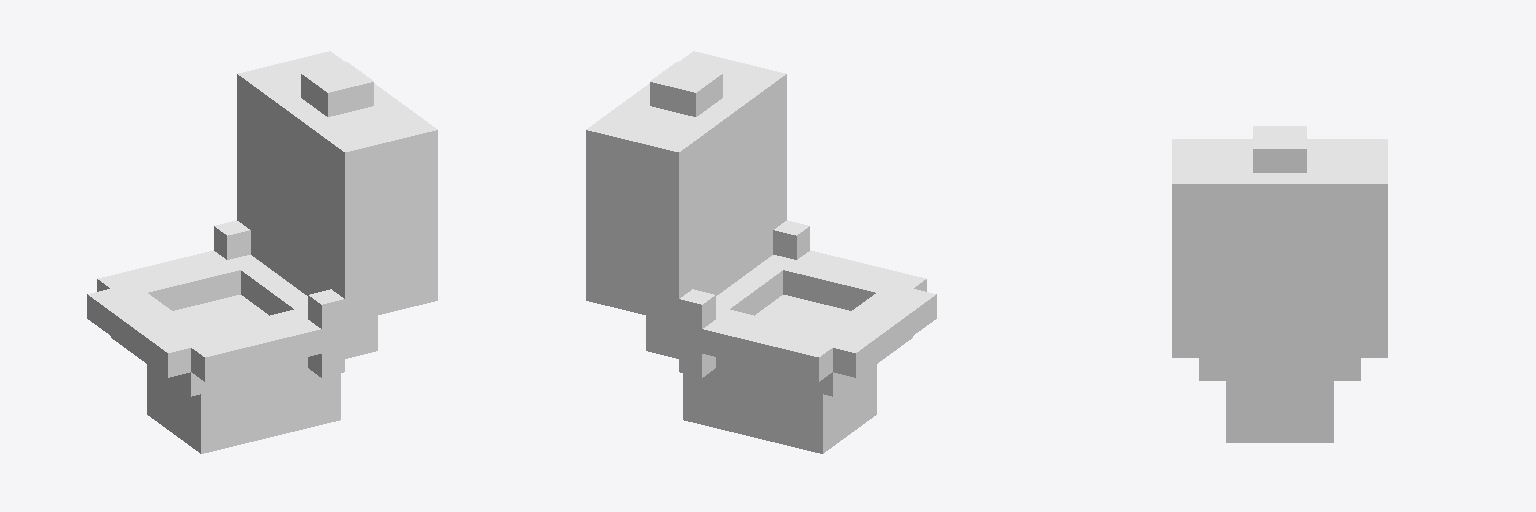
The model's file is toilet.obj.
3 renders of one model, left to right at view 1: azimuth 30°, elevation 25°; view 2: azimuth 150°, elevation 25°; view 3: azimuth 270°, elevation 25°, orthographic.
Visible parts, largest first — view 1: object 1; view 2: object 1; view 3: object 1.
Part boxes in pixels (x1,y1,x2,y2): object 1: (87, 51, 437, 453); object 1: (586, 51, 936, 453); object 1: (1172, 126, 1387, 442).
Size of the model in its own units: 1.1 by 1.3 by 0.8.